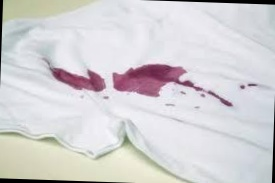wine: (112, 60, 187, 101), (43, 63, 105, 91), (177, 83, 236, 105), (241, 76, 265, 89), (164, 100, 182, 112), (193, 99, 208, 111), (77, 92, 89, 105), (101, 94, 114, 102)
